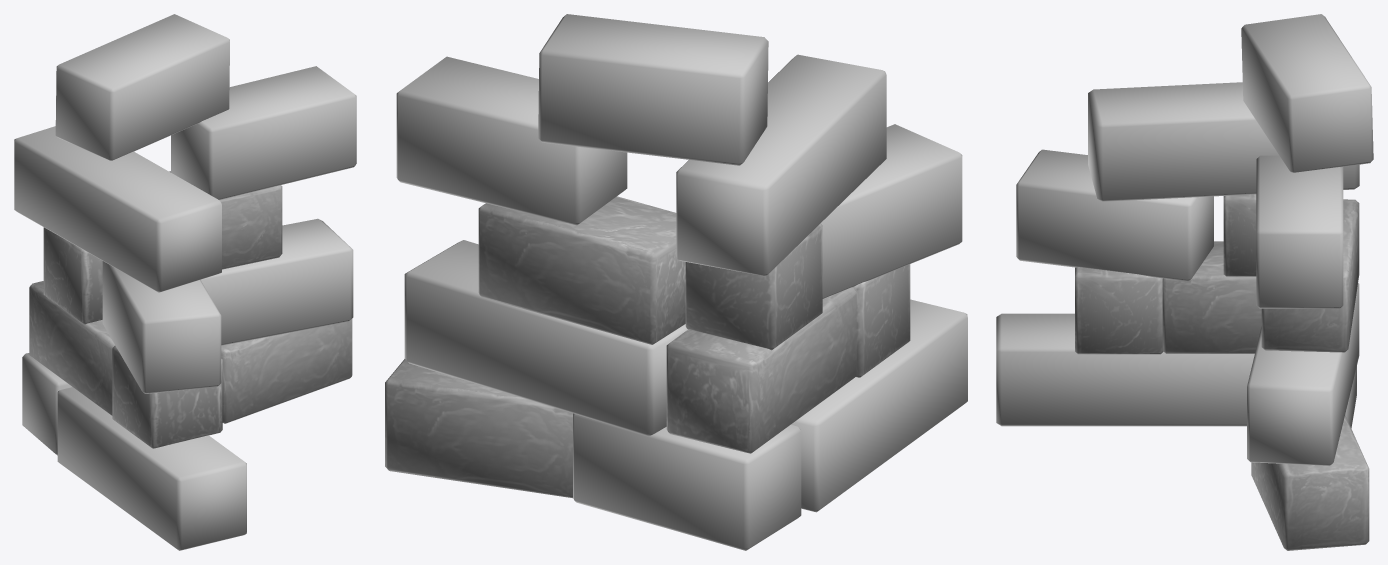
Rendered from Corner.fbx.
3 renders of one model, left to right at view 1: azimuth 30°, elevation 25°; view 2: azimuth 150°, elevation 25°; view 3: azimuth 270°, elevation 25°, orthographic. The views are drawn at different scales.
Parts seen in each view (by area): view 1: Brick#1.020, Brick#1.022, Brick#1.021, Brick#1.017, Brick#1.018, Brick#1.019, Brick#2.009, Brick#2.012, Brick#3.019, Brick#2.013, Brick#3.020, Wall; view 2: Brick#1.022, Brick#1.020, Brick#1.018, Brick#1.021, Brick#2.013, Wall, Brick#2.012, Brick#2.009, Brick#1.017, Brick#1.019, Brick#3.020, Brick#3.019; view 3: Brick#1.017, Brick#1.020, Brick#1.019, Brick#1.022, Brick#1.021, Brick#1.018, Brick#2.009, Brick#2.012, Brick#3.019, Brick#2.013, Brick#3.020.
Part boxes in pixels (left/top/right/bottom): Brick#1.020: left=14, top=126, right=221, bottom=292; Brick#1.022: left=55, top=14, right=229, bottom=160; Brick#1.021: left=171, top=66, right=356, bottom=199; Brick#1.017: left=57, top=387, right=246, bottom=550; Brick#1.018: left=201, top=218, right=353, bottom=345; Brick#1.019: left=102, top=261, right=221, bottom=393; Brick#2.009: left=221, top=319, right=352, bottom=423; Brick#2.012: left=29, top=281, right=114, bottom=415; Brick#3.019: left=112, top=345, right=222, bottom=448; Brick#2.013: left=169, top=171, right=282, bottom=269; Brick#3.020: left=43, top=227, right=102, bottom=324; Wall: left=22, top=353, right=71, bottom=455; Brick#1.022: left=538, top=14, right=768, bottom=165; Brick#1.020: left=676, top=54, right=886, bottom=276; Brick#1.018: left=404, top=240, right=687, bottom=436; Brick#1.021: left=396, top=56, right=627, bottom=225; Brick#2.013: left=478, top=196, right=685, bottom=344; Wall: left=573, top=413, right=801, bottom=550; Brick#2.012: left=666, top=287, right=856, bottom=453; Brick#2.009: left=385, top=359, right=572, bottom=498; Brick#1.017: left=791, top=299, right=967, bottom=512; Brick#1.019: left=821, top=124, right=962, bottom=298; Brick#3.020: left=685, top=223, right=822, bottom=350; Brick#3.019: left=853, top=264, right=910, bottom=377; Brick#1.017: left=996, top=313, right=1254, bottom=426; Brick#1.020: left=1088, top=82, right=1359, bottom=201; Brick#1.019: left=1016, top=149, right=1213, bottom=281; Brick#1.022: left=1241, top=14, right=1373, bottom=172; Brick#1.021: left=1256, top=155, right=1343, bottom=308; Brick#1.018: left=1247, top=283, right=1359, bottom=465; Brick#2.009: left=1251, top=415, right=1369, bottom=550; Brick#2.012: left=1162, top=241, right=1261, bottom=353; Brick#3.019: left=1075, top=267, right=1163, bottom=354; Brick#2.013: left=1261, top=199, right=1359, bottom=352; Brick#3.020: left=1223, top=194, right=1256, bottom=276.
Bounding box in the file's own units: 920 × 1002 × 867.
